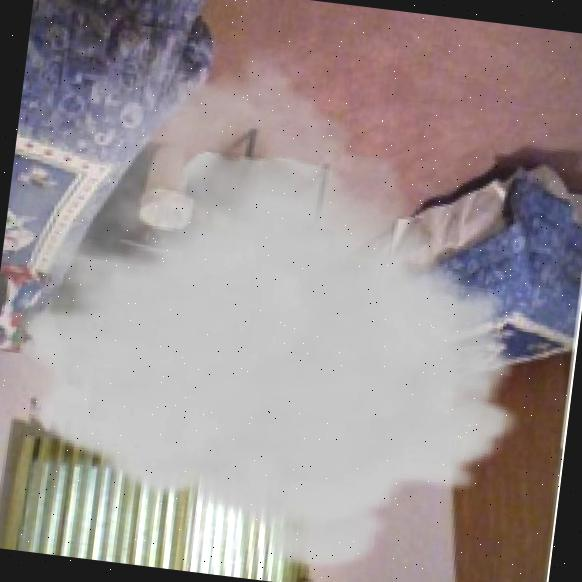smoke: (0, 12, 562, 582)
